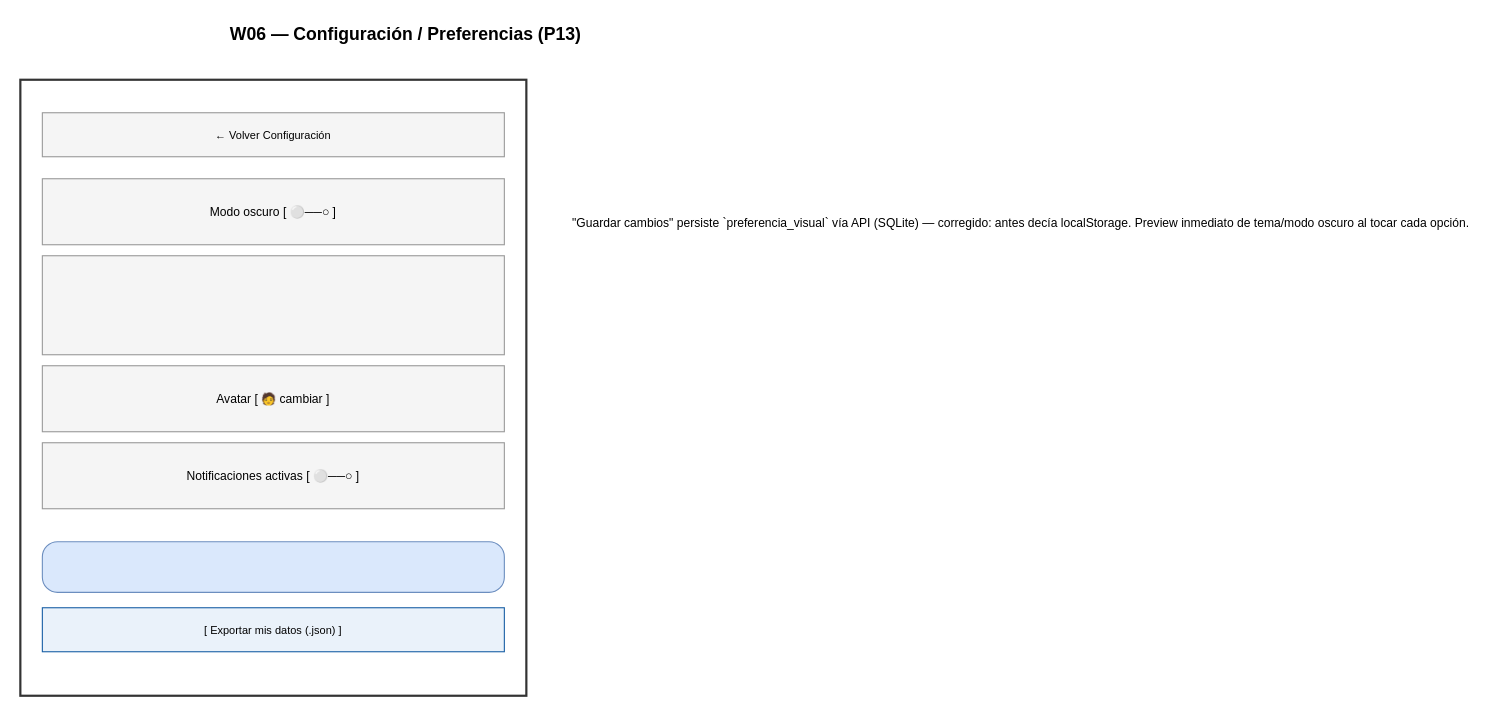
Image size: 1488x715. Some labels were removed from this diagram. Each missing label, with the centre of its shape:
GUARDAR CAMBIOS: point (272, 566)
Tema de color 🟣 🔵 🟢 🟠 🔴 ⚫: point (272, 305)
